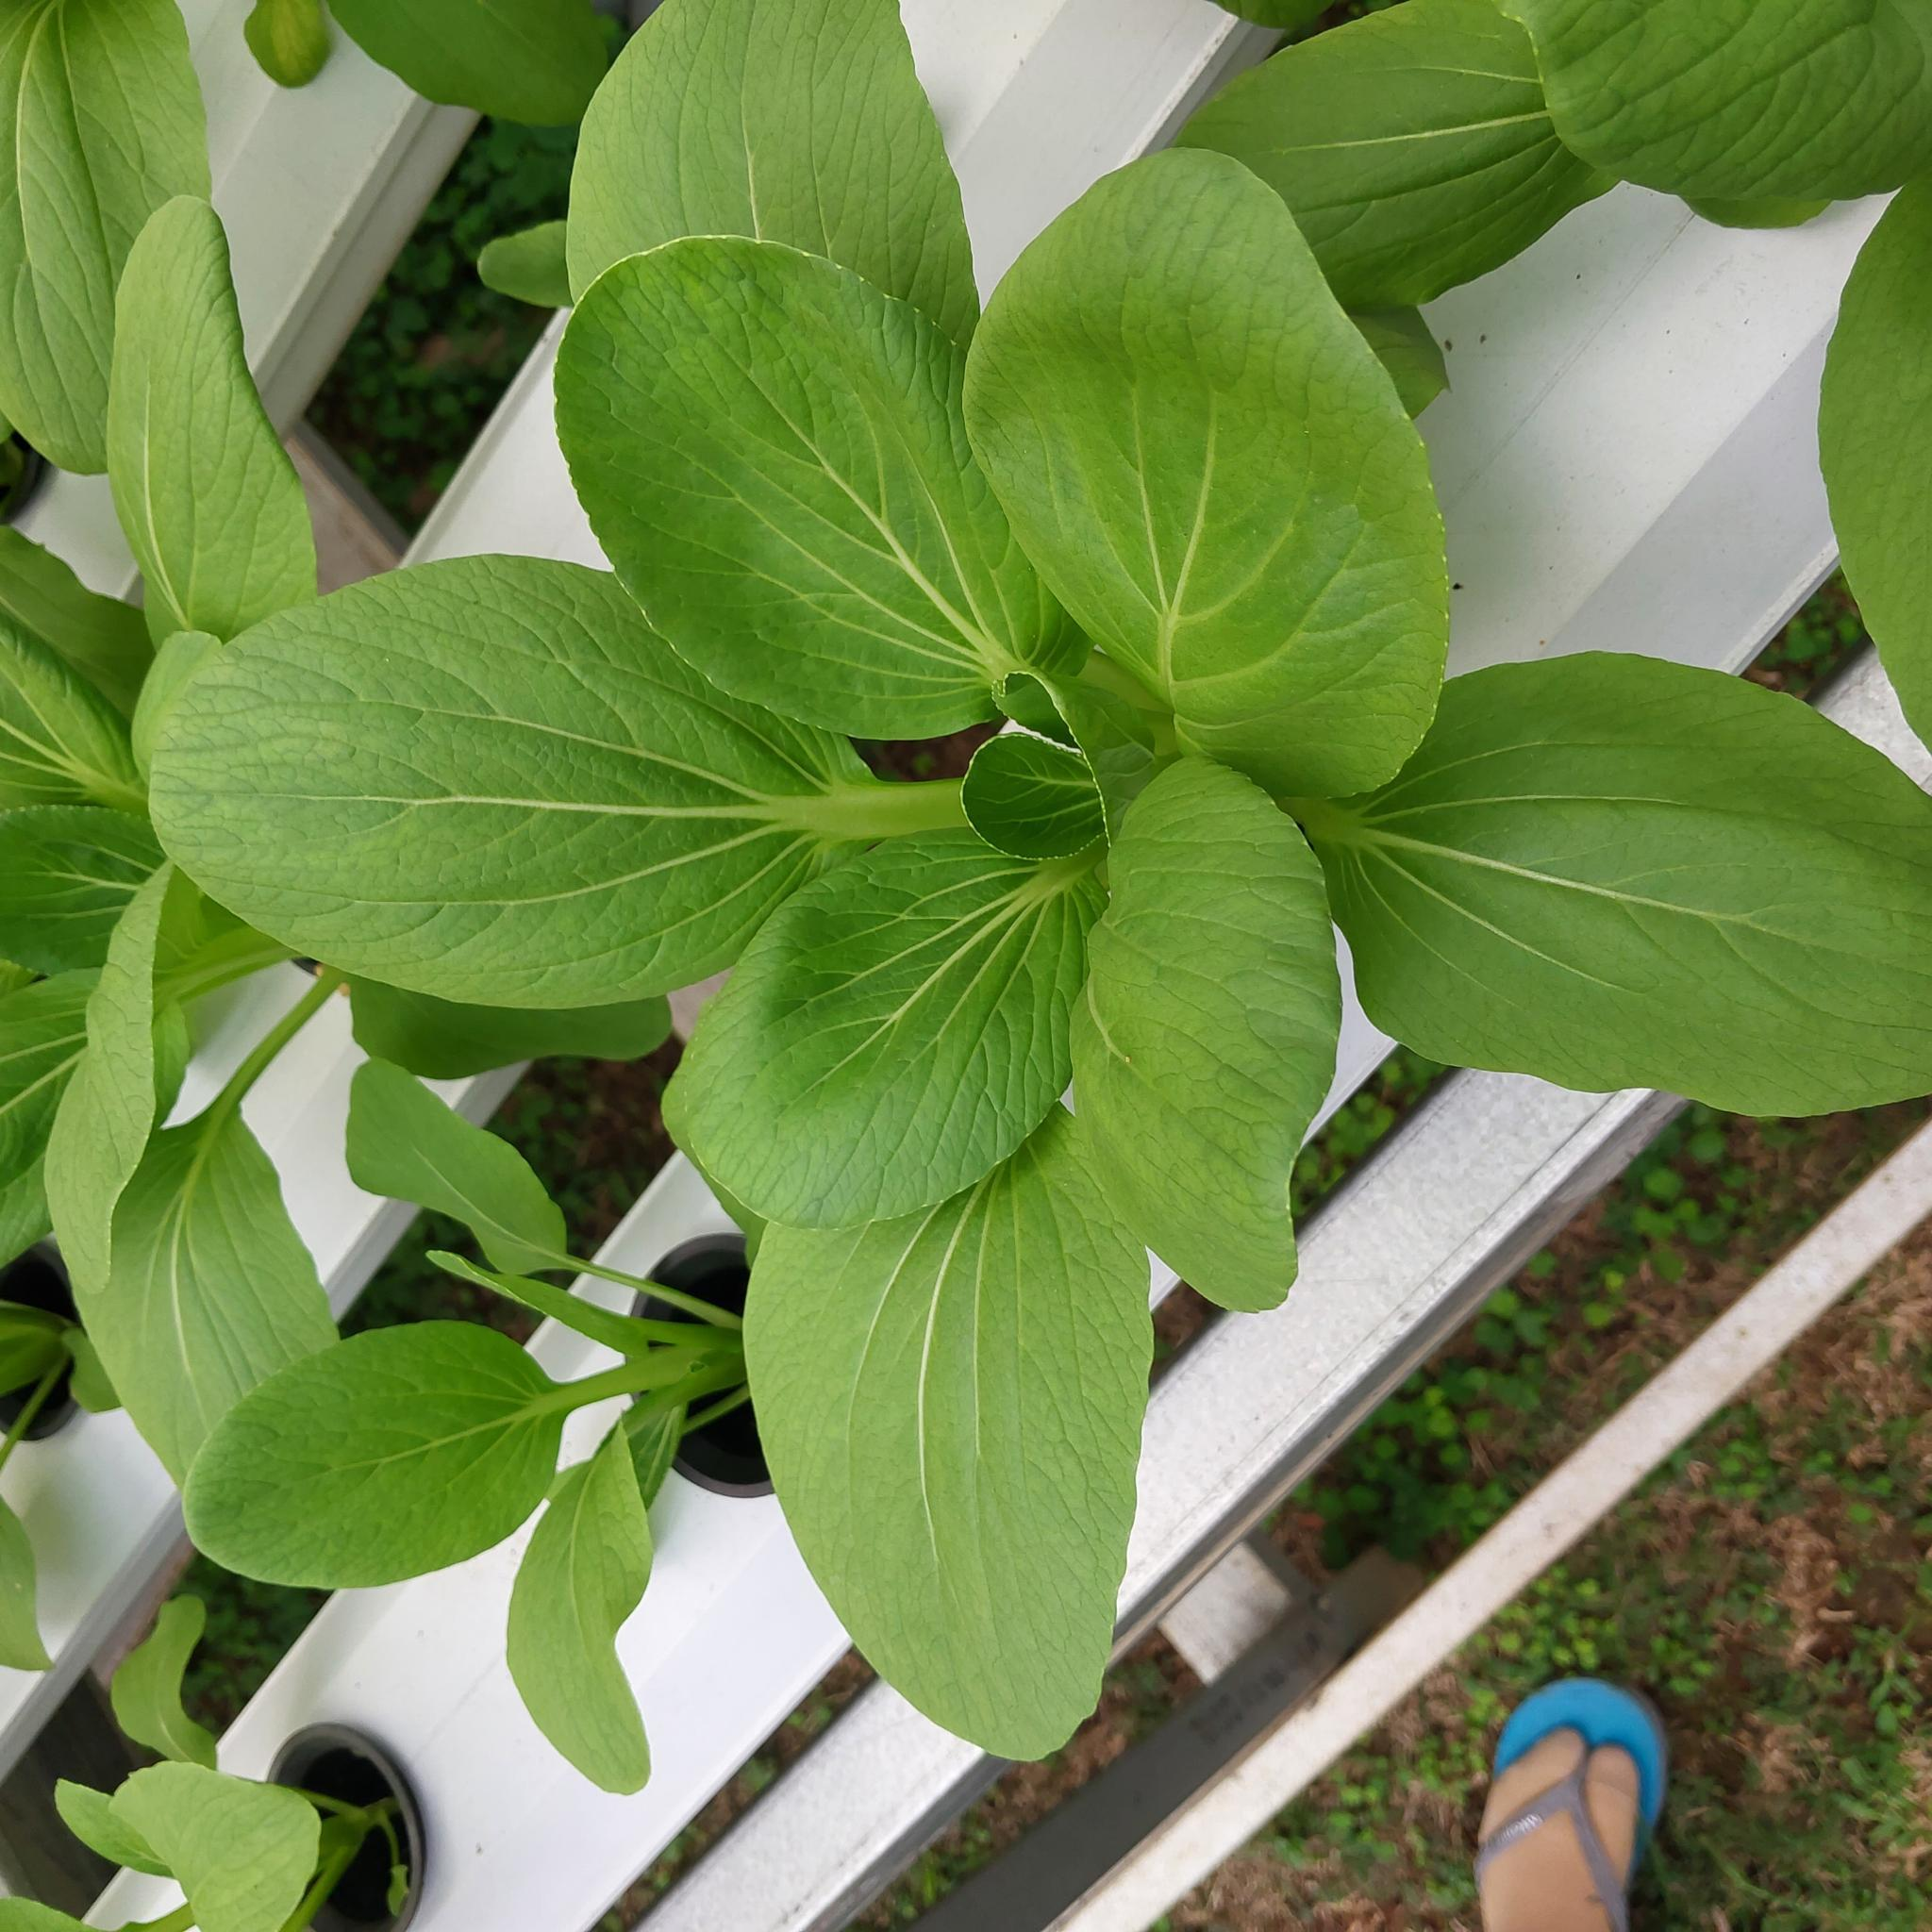Healthy-Pechay: (143, 559, 939, 1000), (970, 145, 1433, 878), (1297, 671, 1932, 1085), (552, 228, 977, 777), (731, 1155, 1010, 1782), (46, 982, 341, 1504), (559, 2, 962, 361), (899, 1136, 1123, 1776), (1171, 2, 1612, 326), (184, 1316, 600, 1594), (4, 5, 221, 494), (1088, 784, 1350, 1175), (104, 198, 322, 660), (1507, 2, 1932, 221), (713, 851, 1008, 1164), (44, 881, 196, 1265), (510, 1414, 660, 1799), (340, 1062, 582, 1274), (0, 515, 157, 766), (96, 1762, 327, 1930), (315, 4, 621, 129), (2, 989, 115, 1284), (0, 805, 175, 962), (168, 1557, 315, 1727), (195, 978, 334, 1132), (110, 1591, 219, 1771)
